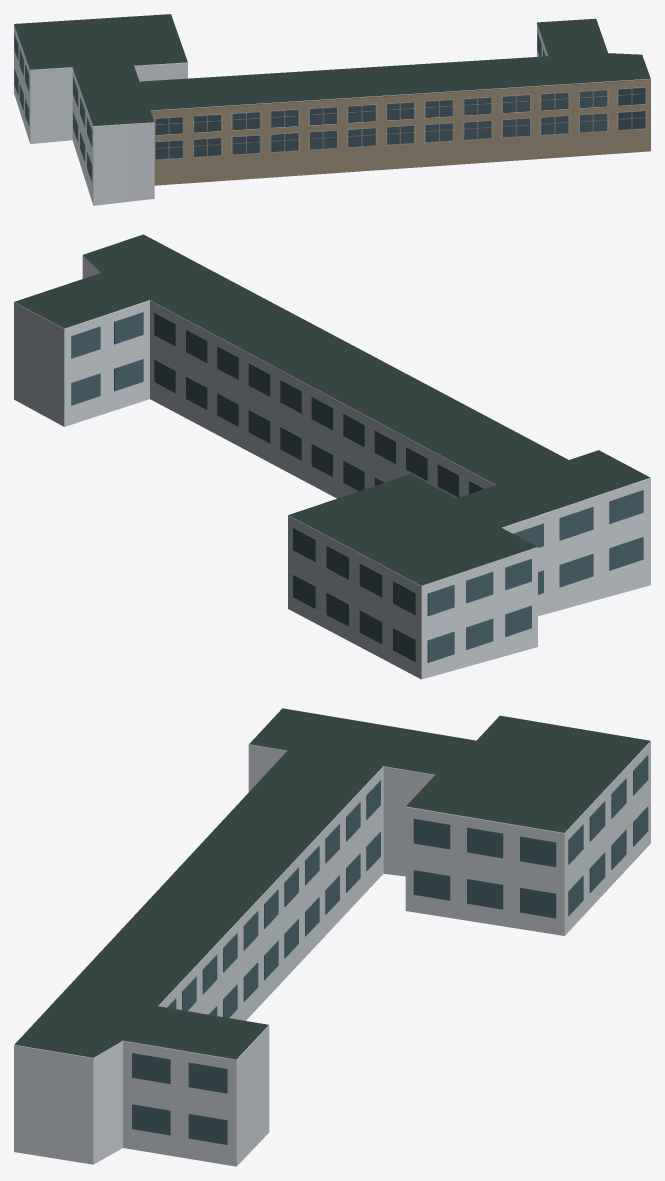
Rendered from fragments.glb.
3 renders of one model, top to bottom at view 1: azimuth 30°, elevation 25°; view 2: azimuth 150°, elevation 25°; view 3: azimuth 270°, elevation 25°, orthographic. The views are drawn at different scales.
Parts seen in each view (by area): view 1: SM_educgrad_Fragment_011, SM_educgrad_Fragment_035, SM_educgrad_Fragment_019, SM_educgrad_Fragment_056, SM_educgrad_Fragment_057, SM_educgrad_Fragment_040, SM_educgrad_Fragment_058, SM_educgrad_Fragment_007, SM_educgrad_Fragment_030, SM_educgrad_Fragment_022, SM_educgrad_Fragment_025, SM_educgrad_Fragment_014 (+33 smaller); view 2: SM_educgrad_Fragment_001, SM_educgrad_Fragment_002, SM_educgrad_Fragment_006, SM_educgrad_Fragment_052, SM_educgrad_Fragment_007, SM_educgrad_Fragment_049, SM_educgrad_Fragment_039, SM_educgrad_Fragment_028, SM_educgrad_Fragment_012, SM_educgrad_Fragment_050, SM_educgrad_Fragment_011, SM_educgrad_Fragment_021 (+31 smaller); view 3: SM_educgrad_Fragment_010, SM_educgrad_Fragment_004, SM_educgrad_Fragment_015, SM_educgrad_Fragment_048, SM_educgrad_Fragment_025, SM_educgrad_Fragment_007, SM_educgrad_Fragment_024, SM_educgrad_Fragment_011, SM_educgrad_Fragment_039, SM_educgrad_Fragment_013, SM_educgrad_Fragment_049, SM_educgrad_Fragment_028 (+30 smaller).
Part boxes in pixels (left/top/right/bottom): SM_educgrad_Fragment_011: left=237, top=73, right=338, bottom=128; SM_educgrad_Fragment_035: left=378, top=75, right=464, bottom=132; SM_educgrad_Fragment_019: left=292, top=102, right=362, bottom=175; SM_educgrad_Fragment_056: left=240, top=111, right=305, bottom=177; SM_educgrad_Fragment_057: left=492, top=99, right=563, bottom=158; SM_educgrad_Fragment_040: left=541, top=66, right=607, bottom=122; SM_educgrad_Fragment_058: left=24, top=64, right=75, bottom=140; SM_educgrad_Fragment_007: left=329, top=65, right=411, bottom=124; SM_educgrad_Fragment_030: left=128, top=88, right=212, bottom=136; SM_educgrad_Fragment_022: left=449, top=59, right=504, bottom=131; SM_educgrad_Fragment_025: left=601, top=54, right=650, bottom=114; SM_educgrad_Fragment_014: left=546, top=108, right=616, bottom=158; SM_educgrad_Fragment_001: left=389, top=569, right=471, bottom=679; SM_educgrad_Fragment_002: left=546, top=467, right=650, bottom=549; SM_educgrad_Fragment_006: left=99, top=278, right=195, bottom=356; SM_educgrad_Fragment_052: left=298, top=387, right=383, bottom=497; SM_educgrad_Fragment_007: left=271, top=354, right=408, bottom=431; SM_educgrad_Fragment_049: left=196, top=325, right=293, bottom=406; SM_educgrad_Fragment_039: left=319, top=522, right=419, bottom=597; SM_educgrad_Fragment_028: left=14, top=355, right=100, bottom=426; SM_educgrad_Fragment_012: left=420, top=520, right=532, bottom=599; SM_educgrad_Fragment_050: left=42, top=303, right=113, bottom=376; SM_educgrad_Fragment_011: left=365, top=375, right=492, bottom=432; SM_educgrad_Fragment_021: left=326, top=583, right=400, bottom=668; SM_educgrad_Fragment_010: left=145, top=1024, right=256, bottom=1120; SM_educgrad_Fragment_004: left=51, top=1064, right=152, bottom=1164; SM_educgrad_Fragment_015: left=505, top=807, right=587, bottom=902; SM_educgrad_Fragment_048: left=443, top=804, right=526, bottom=924; SM_educgrad_Fragment_025: left=14, top=1018, right=106, bottom=1101; SM_educgrad_Fragment_007: left=163, top=861, right=264, bottom=969; SM_educgrad_Fragment_024: left=73, top=1014, right=170, bottom=1108; SM_educgrad_Fragment_011: left=185, top=803, right=294, bottom=864; SM_educgrad_Fragment_039: left=552, top=761, right=630, bottom=859; SM_educgrad_Fragment_013: left=405, top=788, right=504, bottom=856; SM_educgrad_Fragment_049: left=158, top=918, right=239, bottom=1003; SM_educgrad_Fragment_028: left=183, top=1077, right=269, bottom=1166.
Bounding box in the file's own units: 2.2 × 0.3441 × 1.68.
Materials: 5 (1 with a texture image).
